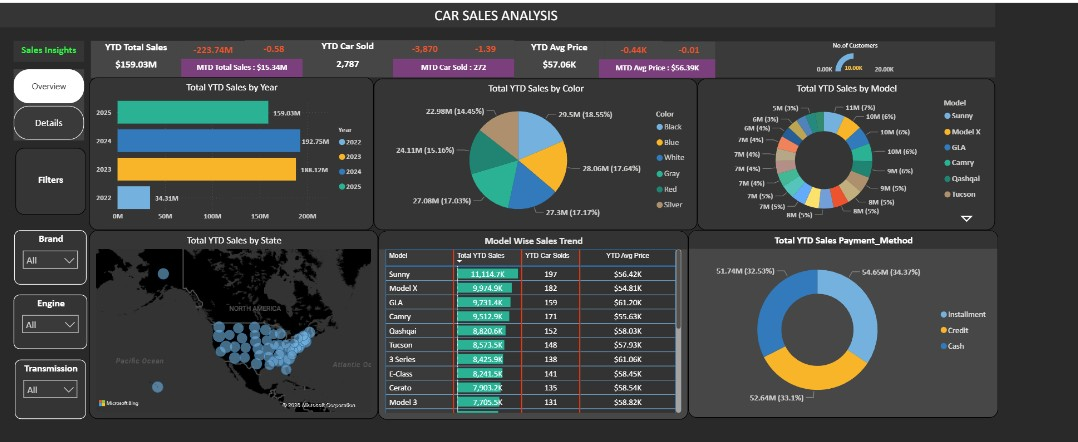

Layout of this report page (visuals, bound fields, positions):
{"tool":"powerbi","page":{"name":"Overview","canvas":[1750,1000],"ordinal":0},"visuals":[{"type":"textbox","box":[0,0,1613,39],"z":0},{"type":"textbox","box":[30,234,114,108],"z":1000},{"type":"slicer","title":"Brand","fields":{"Values":["Cars.Brand"]},"box":[28,367,117,88],"z":2000},{"type":"slicer","title":"Engine","fields":{"Values":["Cars.Engine_Type"]},"box":[27,471,119,88],"z":3000},{"type":"textbox","box":[27,61,114,34],"z":4000},{"type":"slicer","title":"Transmission","fields":{"Values":["Cars.Transmission"]},"box":[29,576,115,96],"z":5000},{"type":"card","title":"YTD Total  Sales","fields":{"Values":["Sales.Total YTD Sales1"]},"box":[152,61,146,60],"z":6000},{"type":"card","fields":{"Values":["Sales.Sales Diffrence"]},"box":[298,61,103,31],"z":7000},{"type":"card","fields":{"Values":["Sales.YOY Sales Growth"]},"box":[401,60,93,30],"z":8000},{"type":"card","fields":{"Values":["Sales.MTD KPI"]},"box":[298,90,196,30],"z":9000},{"type":"barChart","title":"Total YTD Sales by Year","fields":{"Category":["Calendar Table.Year"],"Y":["Sales.Total YTD Sales1"],"Series":["Calendar Table.Year"]},"box":[149,120,460,247],"z":10000},{"type":"pieChart","title":"Total YTD Sales by Color","fields":{"Category":["Cars.Color"],"Y":["Sales.Total YTD Sales1"]},"box":[609,122,523,245],"z":11000},{"type":"donutChart","title":"Total YTD Sales by Model","fields":{"Category":["Cars.Model"],"Y":["Sales.Total YTD Sales1"]},"box":[1132,122,481,245],"z":12000},{"type":"map","title":"Total YTD Sales by State","fields":{"Category":["Customers.State"],"Size":["Sales.Total YTD Sales1"]},"box":[149,367,467,305],"z":13000},{"type":"card","title":"YTD Car Sold","fields":{"Values":["Sales.YTD Car Solds1"]},"box":[494,60,146,60],"z":14000},{"type":"card","fields":{"Values":["Sales.Cars Sold Diff1"]},"box":[640,60,103,31],"z":15000},{"type":"card","fields":{"Values":["Sales.YOY Car Sold Growth1"]},"box":[743,60,93,30],"z":16000},{"type":"card","fields":{"Values":["Sales.MTD KPI1"]},"box":[640,90,196,30],"z":17000},{"type":"card","title":"YTD Avg Price","fields":{"Values":["Sales.YTD Avg Price1"]},"box":[836,61,146,60],"z":18000},{"type":"card","fields":{"Values":["Sales.Avg Price Diff"]},"box":[982,61,94,31],"z":19000},{"type":"card","fields":{"Values":["Sales.YOY Avg Price Growth1"]},"box":[1076,62,85,30],"z":20000},{"type":"card","fields":{"Values":["Sales.MTD Avg Price KPI"]},"box":[973,91,188,30],"z":21000},{"type":"tableEx","title":"Model Wise Sales Trend","fields":{"Values":["Cars.Model","Sales.Total YTD Sales","Sales.YTD Car Solds","Sales.YTD Avg Price"]},"box":[616,368,501,305],"z":22000},{"type":"donutChart","title":"Total YTD Sales  Payment_Method","fields":{"Category":["Sales.Payment_Method"],"Y":["Sales.Total YTD Sales"]},"box":[1117,367,501,303],"z":23000},{"type":"pageNavigator","box":[27,107,114,115],"z":24000},{"type":"gauge","title":"No.of Customers","fields":{"Y":["CountNonNull(Sales.Customer_ID)"]},"box":[1161,62,452,58],"z":25000}]}

Visuals, with their boxes on the page's 1750x1000 design canvas (x1, y1, x2, y2). These are canvas units, not pixel positions in the 1078x442 screenshot, which may show the page scaled, cropped or inside an application window:
textbox: crop(0, 0, 1613, 39)
textbox: crop(30, 234, 144, 342)
"Brand" slicer: crop(28, 367, 145, 455)
"Engine" slicer: crop(27, 471, 146, 559)
textbox: crop(27, 61, 141, 95)
"Transmission" slicer: crop(29, 576, 144, 672)
"YTD Total  Sales" card: crop(152, 61, 298, 121)
card - Sales.Sales Diffrence: crop(298, 61, 401, 92)
card - Sales.YOY Sales Growth: crop(401, 60, 494, 90)
card - Sales.MTD KPI: crop(298, 90, 494, 120)
"Total YTD Sales by Year" barChart: crop(149, 120, 609, 367)
"Total YTD Sales by Color" pieChart: crop(609, 122, 1132, 367)
"Total YTD Sales by Model" donutChart: crop(1132, 122, 1613, 367)
"Total YTD Sales by State" map: crop(149, 367, 616, 672)
"YTD Car Sold" card: crop(494, 60, 640, 120)
card - Sales.Cars Sold Diff1: crop(640, 60, 743, 91)
card - Sales.YOY Car Sold Growth1: crop(743, 60, 836, 90)
card - Sales.MTD KPI1: crop(640, 90, 836, 120)
"YTD Avg Price" card: crop(836, 61, 982, 121)
card - Sales.Avg Price Diff: crop(982, 61, 1076, 92)
card - Sales.YOY Avg Price Growth1: crop(1076, 62, 1161, 92)
card - Sales.MTD Avg Price KPI: crop(973, 91, 1161, 121)
"Model Wise Sales Trend" tableEx: crop(616, 368, 1117, 673)
"Total YTD Sales  Payment_Method" donutChart: crop(1117, 367, 1618, 670)
pageNavigator: crop(27, 107, 141, 222)
"No.of Customers" gauge: crop(1161, 62, 1613, 120)
